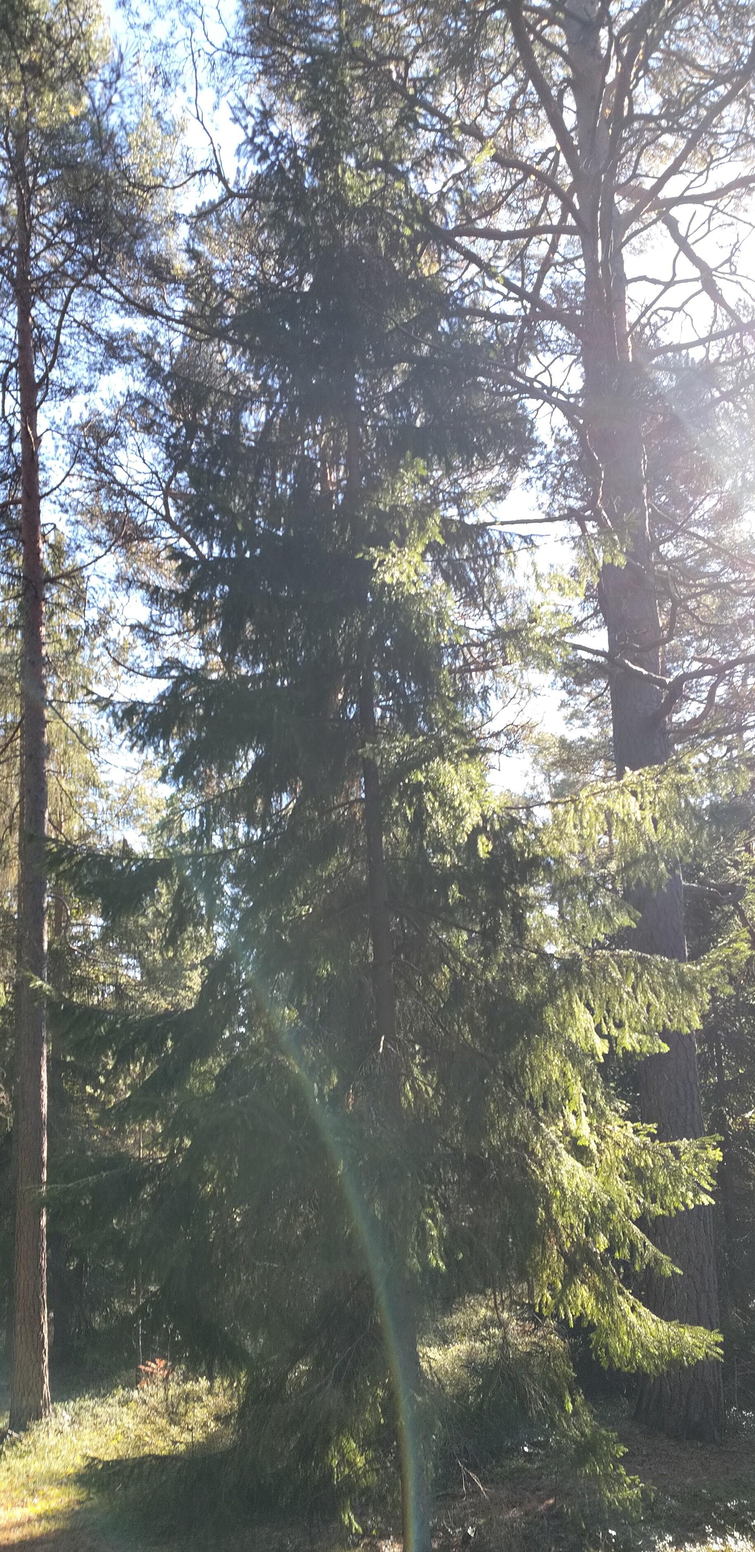Spruce: (14, 2, 748, 1542)
